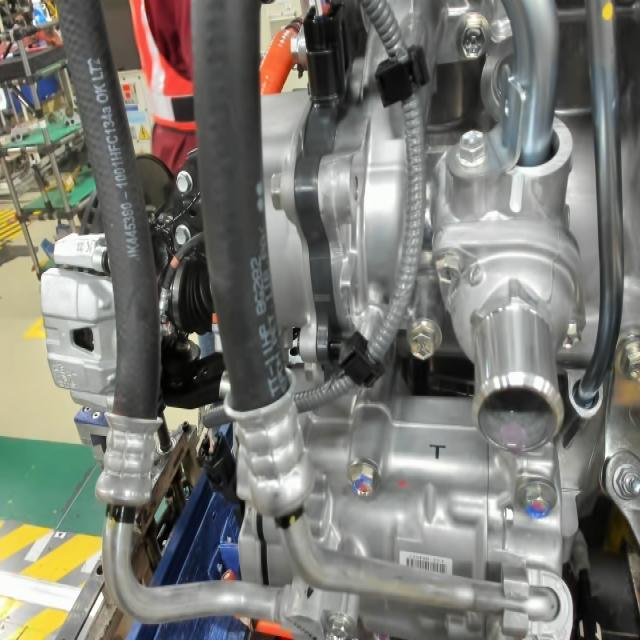Compressor-T: (424, 436, 451, 465)
